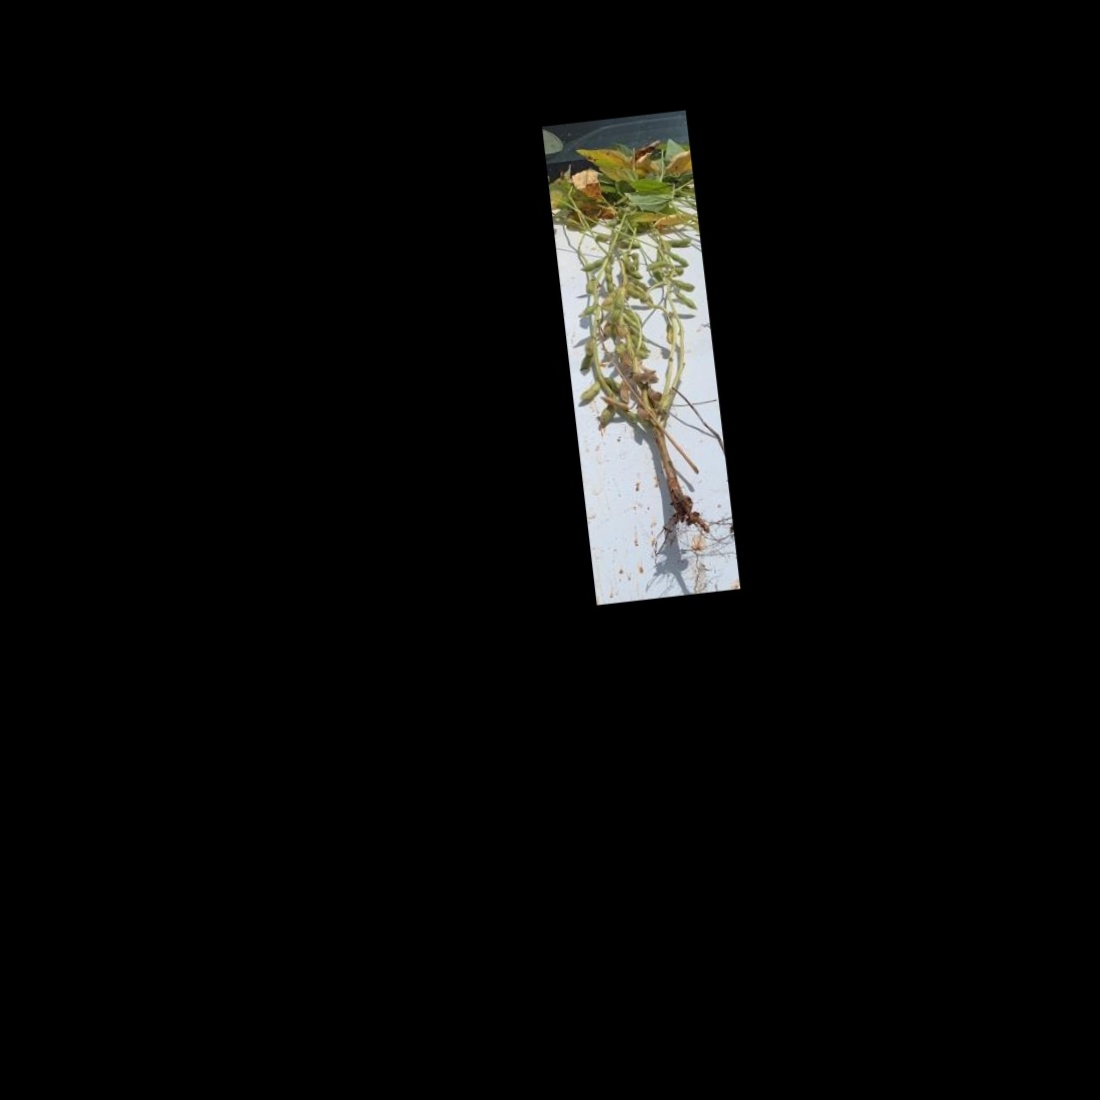pod: (576, 377, 603, 404), (673, 288, 700, 314), (579, 254, 607, 274), (666, 248, 689, 268), (662, 234, 693, 248), (673, 276, 696, 292), (662, 323, 674, 346)
soy: (548, 151, 730, 562)
